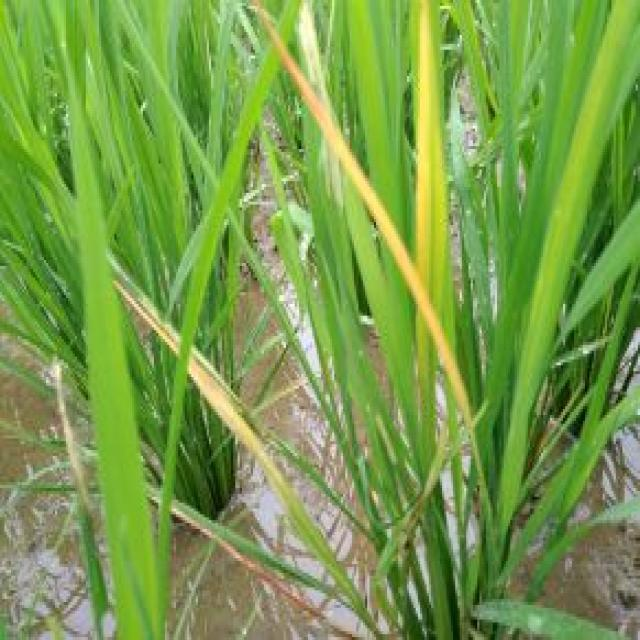Tungro: (249, 0, 475, 384), (111, 286, 366, 573), (158, 494, 374, 637), (237, 0, 361, 168), (411, 2, 450, 462)
